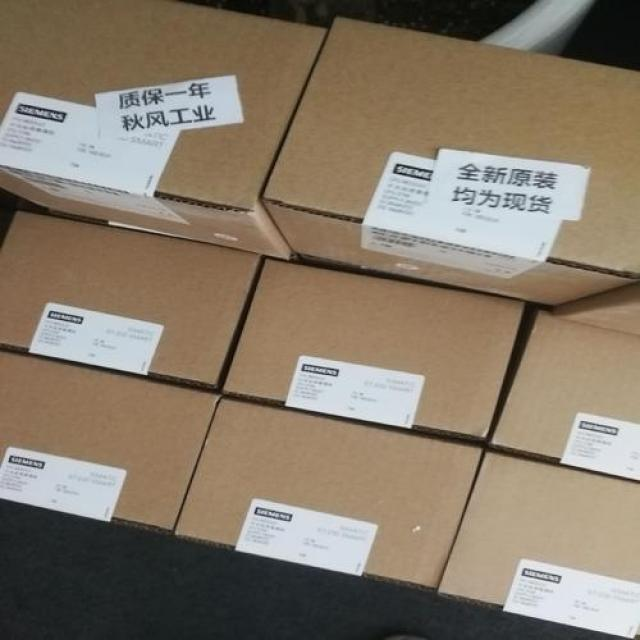box: (259, 16, 639, 307), (0, 1, 329, 261), (174, 394, 483, 592), (222, 259, 525, 441), (0, 208, 262, 391), (0, 348, 221, 532), (438, 449, 639, 639), (488, 314, 639, 481), (541, 285, 639, 335)
